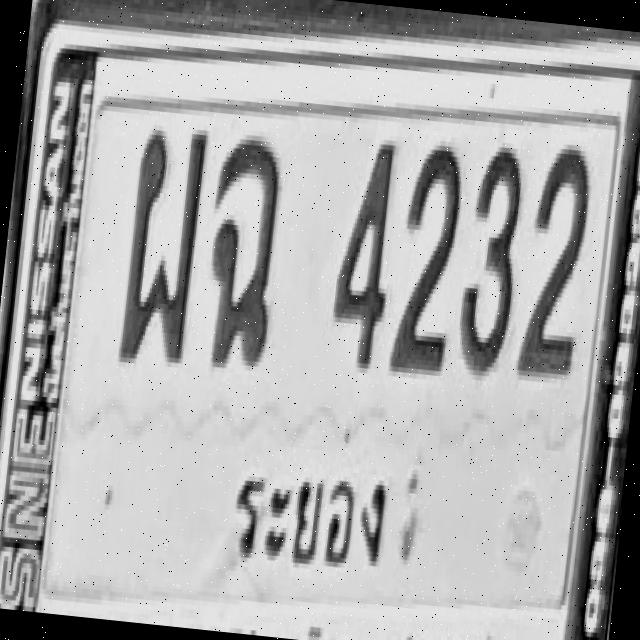18ChorChing: (198, 132, 288, 372)
2: (387, 138, 466, 376), (516, 142, 594, 380)
3: (453, 140, 528, 378)
37PhorPhueng: (118, 121, 208, 366)
4: (325, 134, 402, 372)
Rayong: (215, 439, 402, 588)
